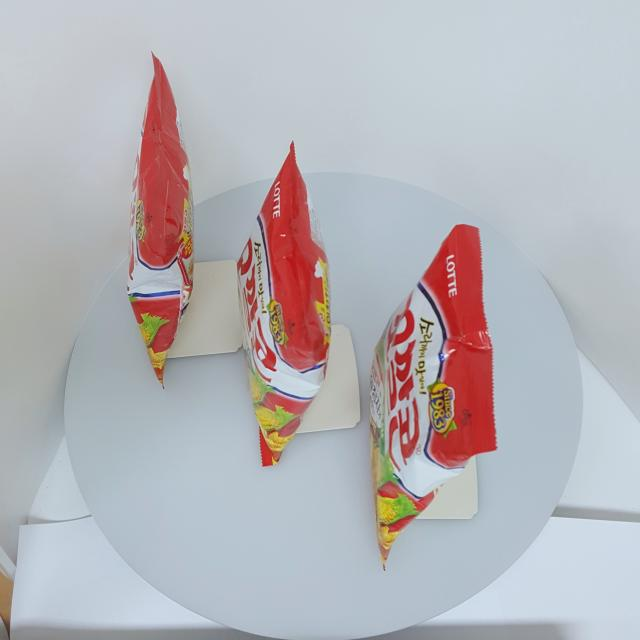-72G: (371, 225, 499, 572), (237, 141, 331, 468), (127, 52, 195, 390)
